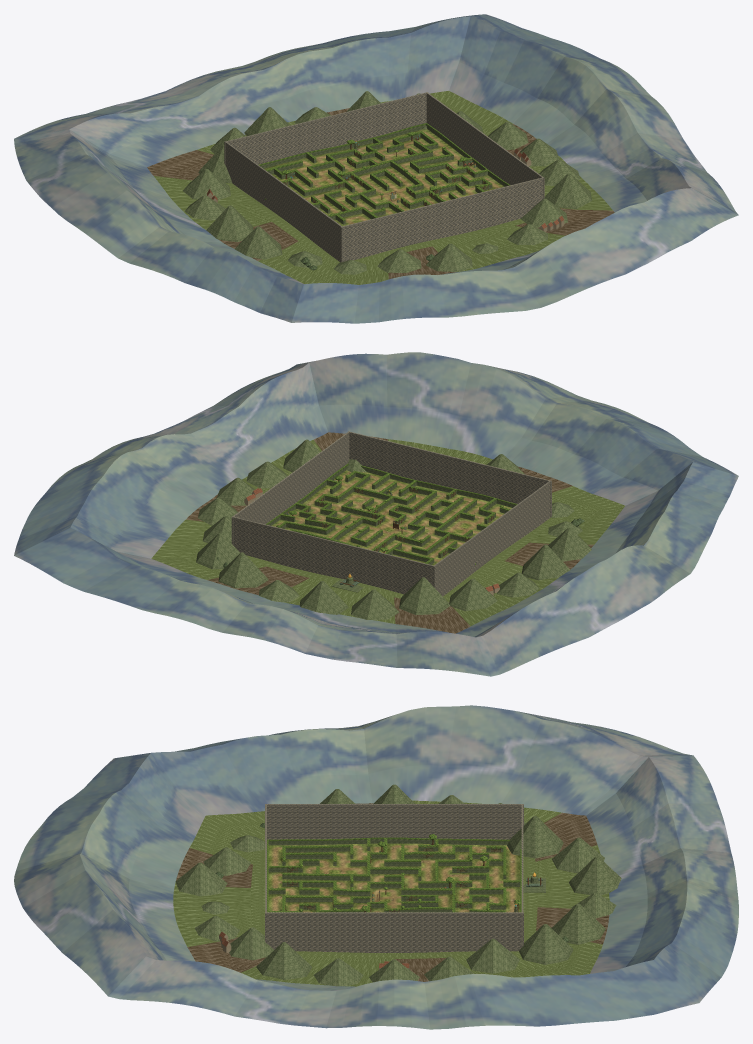
File: Wickwater.fbx
3 renders of one model, top to bottom at view 1: azimuth 30°, elevation 25°; view 2: azimuth 150°, elevation 25°; view 3: azimuth 270°, elevation 25°, orthographic. The views are drawn at different scales.
Parts seen in each view (by area): view 1: Surroundings, C_Solids, Horizon, Rim, Terrain, Set; view 2: Surroundings, C_Solids, Horizon, Rim, Terrain, Set; view 3: Surroundings, C_Solids, Horizon, Rim, Terrain, Set.
Boxes of the visible parts, <box> form: Surroundings: <box>14,14,738,323</box>; C_Solids: <box>224,92,544,262</box>; Horizon: <box>183,91,592,274</box>; Rim: <box>258,123,510,226</box>; Terrain: <box>264,129,503,225</box>; Set: <box>264,131,488,214</box>; Surroundings: <box>14,352,738,676</box>; C_Solids: <box>231,431,551,596</box>; Horizon: <box>196,439,591,619</box>; Rim: <box>265,463,517,564</box>; Terrain: <box>271,470,511,565</box>; Set: <box>276,472,509,587</box>; Surroundings: <box>14,705,738,1029</box>; C_Solids: <box>265,804,523,952</box>; Horizon: <box>175,784,621,986</box>; Rim: <box>267,837,521,912</box>; Terrain: <box>268,843,520,912</box>; Set: <box>271,834,542,912</box>.
Size of the model in its own units: 34590 by 4130 by 34156.
